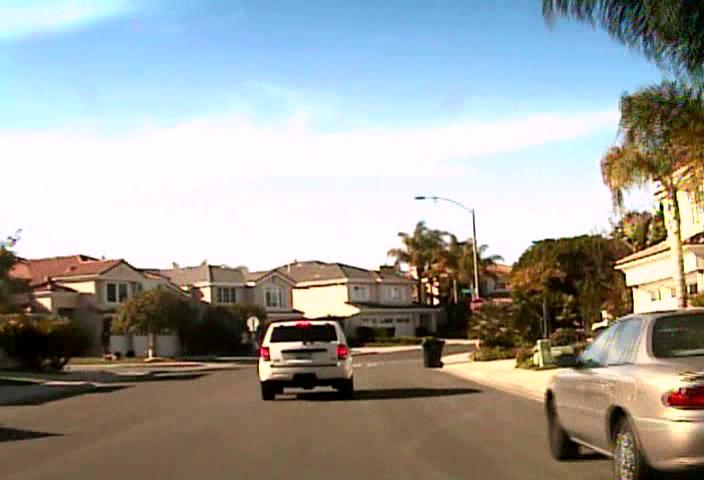stop: (469, 297, 486, 314)
